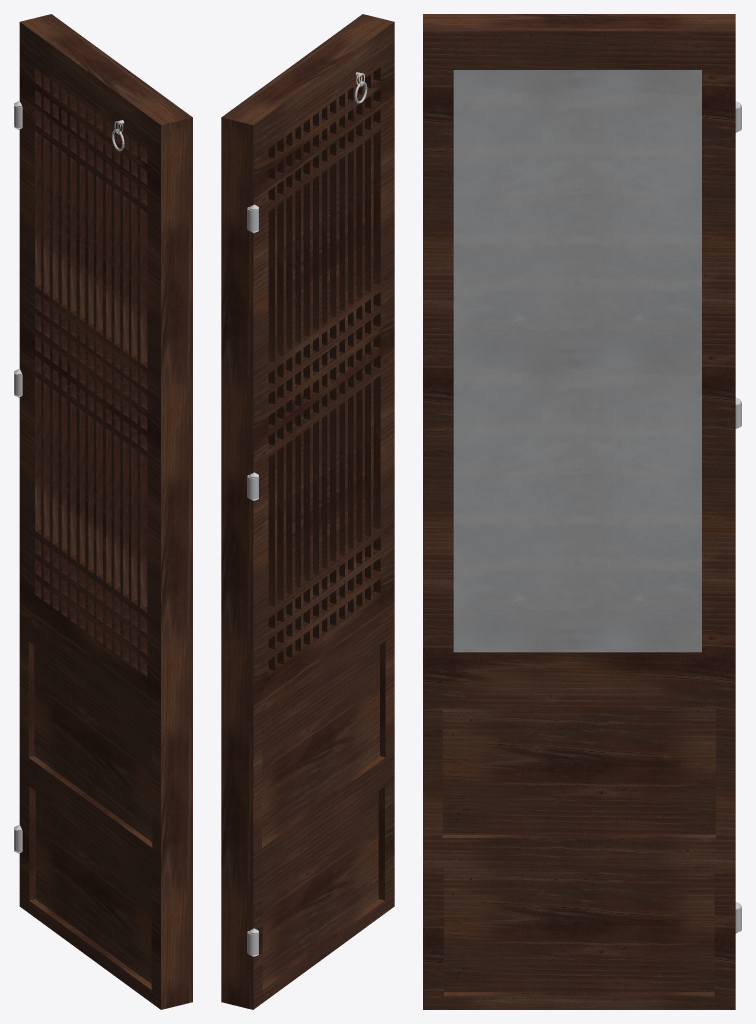
Rendered from SM_D_Wood_8.fbx.
3 views of the same model, side by side, from view 1: azimuth 30°, elevation 25°; view 2: azimuth 150°, elevation 25°; view 3: azimuth 270°, elevation 25° (orthographic). The views are drawn at different scales.
Parts seen in each view (by area): view 1: SM_D_Wood_8; view 2: SM_D_Wood_8; view 3: SM_D_Wood_8.
Boxes of the visible parts, bbox=[...] form: SM_D_Wood_8: bbox=[14, 14, 192, 1009]; SM_D_Wood_8: bbox=[221, 14, 394, 1009]; SM_D_Wood_8: bbox=[423, 14, 741, 1009].
Size of the model in its own units: 12.43 by 81.71 by 277.
